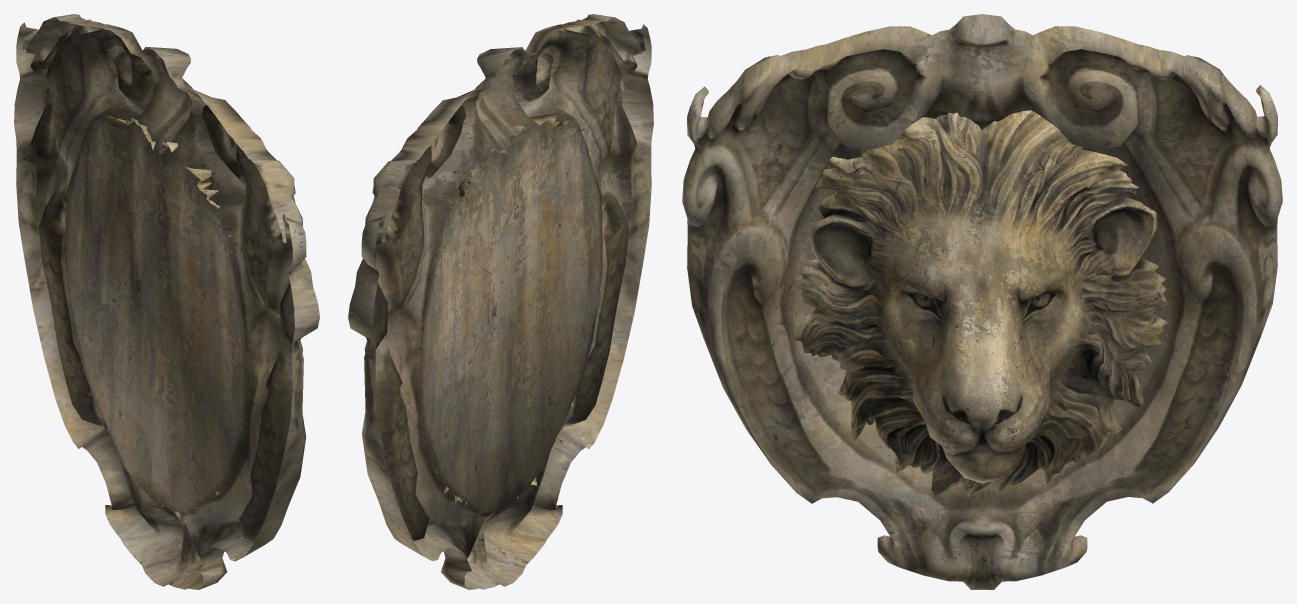
File: lionhead.fbx
3 renders of one model, left to right at view 1: azimuth 30°, elevation 25°; view 2: azimuth 150°, elevation 25°; view 3: azimuth 270°, elevation 25°, orthographic. The views are drawn at different scales.
Visible parts, largest first — view 1: sponza_378; view 2: sponza_378; view 3: sponza_378.
Boxes of the visible parts, bbox=[...] form: sponza_378: bbox=[14, 14, 319, 589]; sponza_378: bbox=[348, 14, 653, 589]; sponza_378: bbox=[682, 14, 1282, 589].
Bounding box in the file's own units: 23.38 × 81.87 × 78.36.
